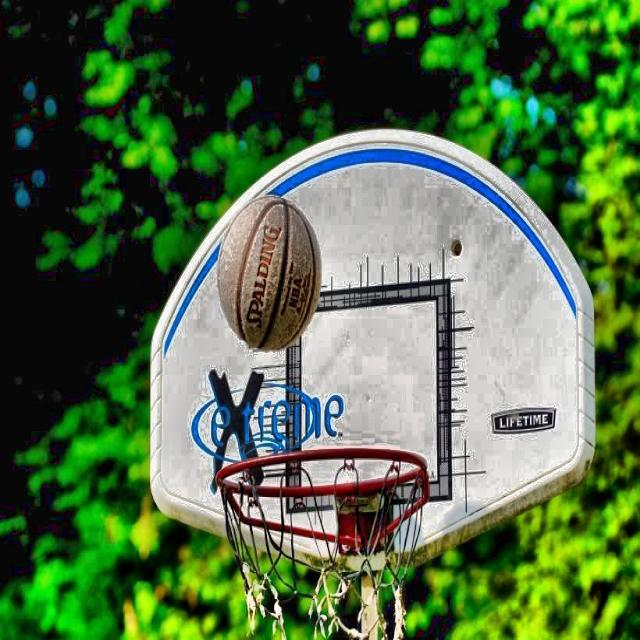board: (217, 198, 322, 351)
